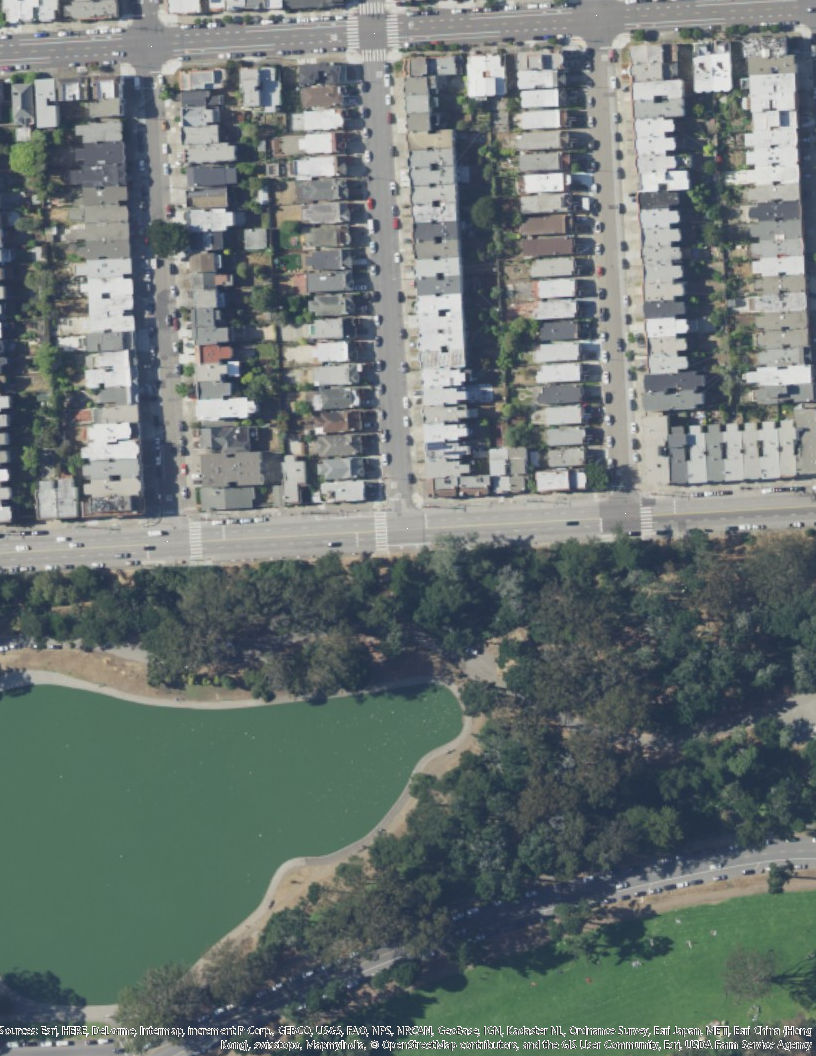zebracross: (374, 510, 389, 554), (189, 522, 203, 560), (345, 15, 360, 50), (385, 15, 399, 49), (640, 499, 653, 534), (358, 1, 386, 15), (362, 47, 388, 62)
